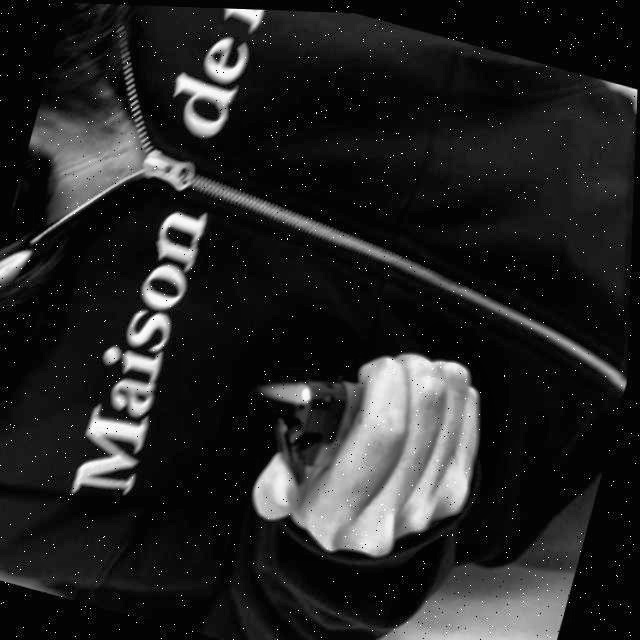Fire: (255, 366, 320, 410)
